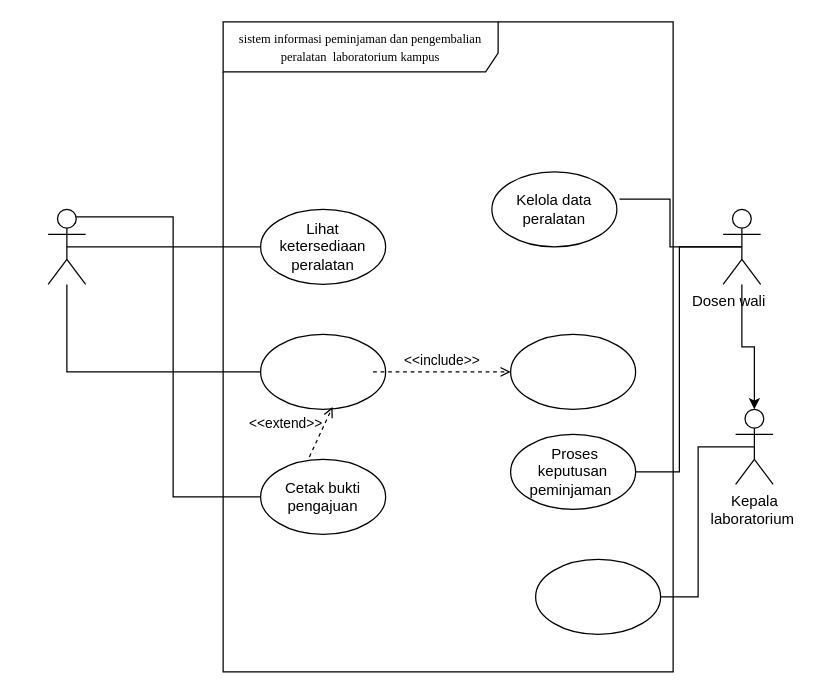
Image size: 820x694. Some labels were removed from this diagram. Each missing label, with the centre of its shape:
Ajukan peminjaman: point 322,371
Lihat laporan peminjaman: point 597,596
MAHASISWA: point 66,246
Periksa ketersediaan: point 572,371
